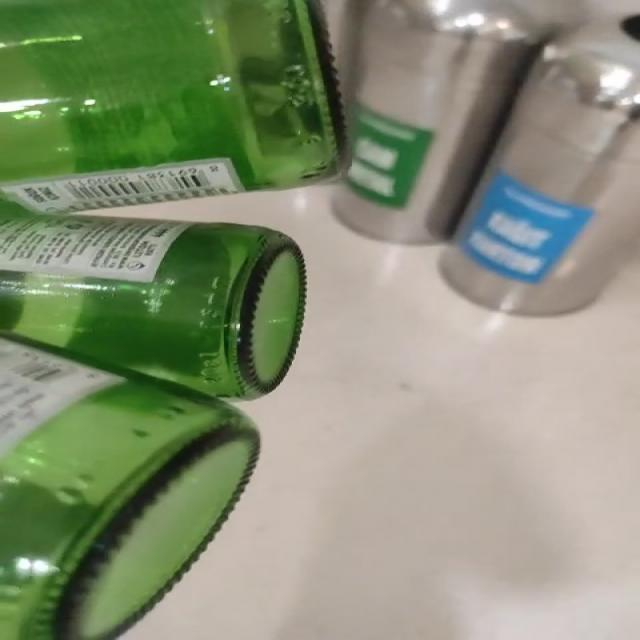glass: (1, 0, 341, 640)
